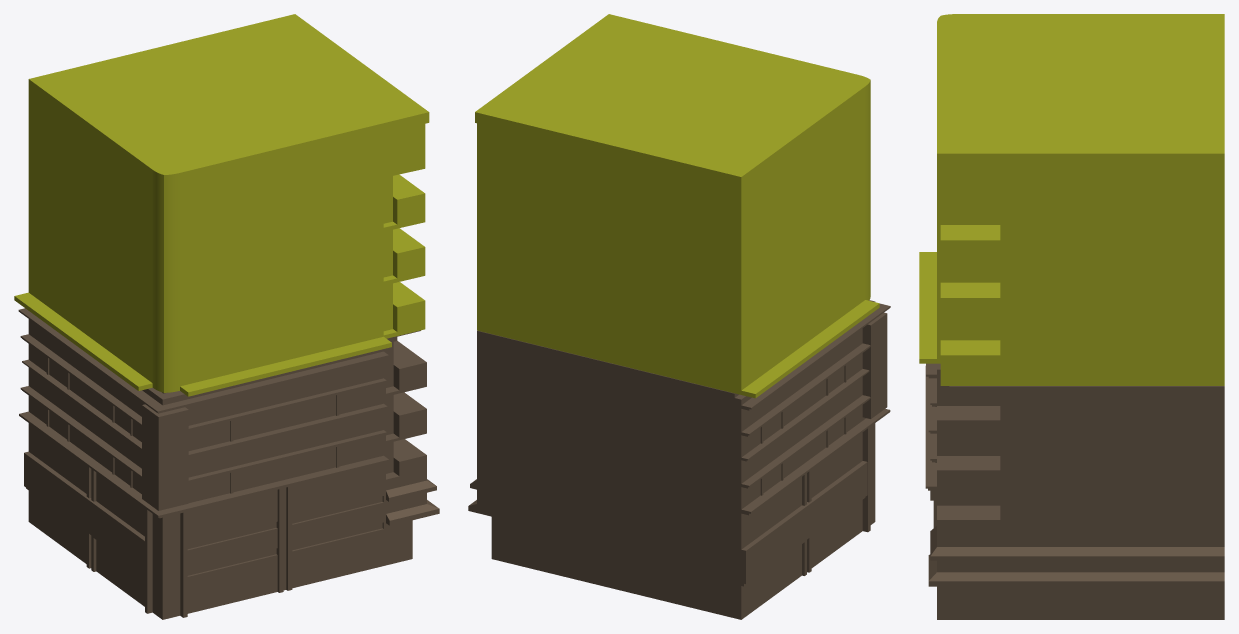
The model's file is asahisuperlaiFIXED.FBX.
The picture shows the model from 3 angles, left to right: view 1: azimuth 30°, elevation 25°; view 2: azimuth 150°, elevation 25°; view 3: azimuth 270°, elevation 25°; orthographic projection. The views are drawn at different scales.
Parts seen in each view (by area): view 1: asahi, Box002; view 2: asahi, Box002; view 3: asahi, Box002.
Boxes of the visible parts, x1,y1,x2,y2 form: asahi: (14,14,429,396); Box002: (18,308,439,619); asahi: (475,14,879,398); Box002: (468,300,890,619); asahi: (919,14,1224,385); Box002: (925,363,1224,619).
Bounding box in the file's own units: 134 × 198 × 115.
